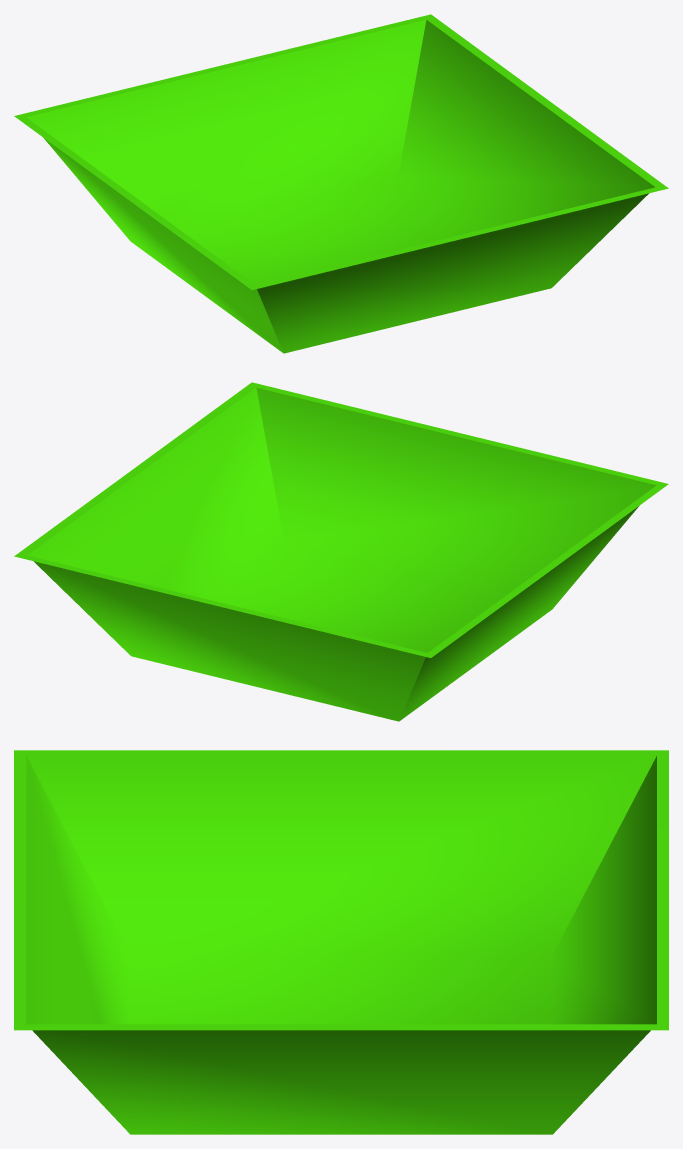
Rendered from Sink_B_Inside.fbx.
The picture shows the model from 3 angles, top to bottom: view 1: azimuth 30°, elevation 25°; view 2: azimuth 150°, elevation 25°; view 3: azimuth 270°, elevation 25°; orthographic projection. The views are drawn at different scales.
Parts seen in each view (by area): view 1: Sink_B_Inside; view 2: Sink_B_Inside; view 3: Sink_B_Inside.
Part boxes in pixels (x1=…): Sink_B_Inside: x1=14, y1=14, x2=668, y2=353; Sink_B_Inside: x1=14, y1=382, x2=668, y2=721; Sink_B_Inside: x1=14, y1=750, x2=668, y2=1134.
Bounding box in the file's own units: 346 × 89.26 × 342.
